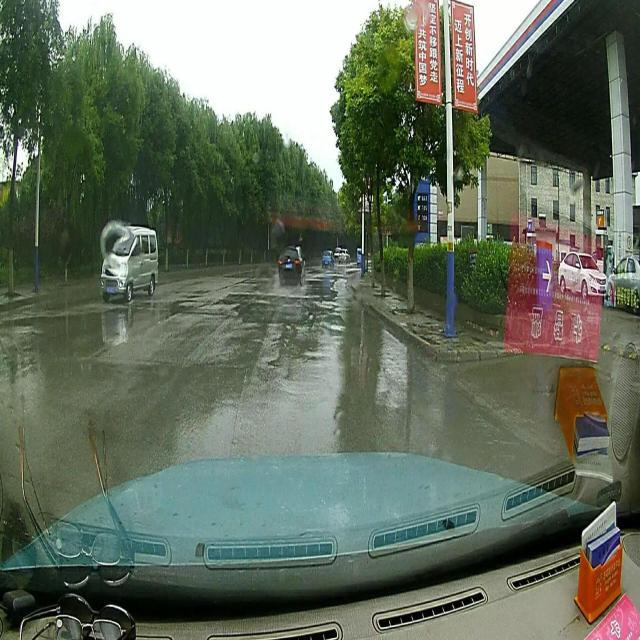car: (99, 226, 158, 295), (277, 242, 306, 286), (322, 250, 334, 268), (339, 249, 351, 264)
